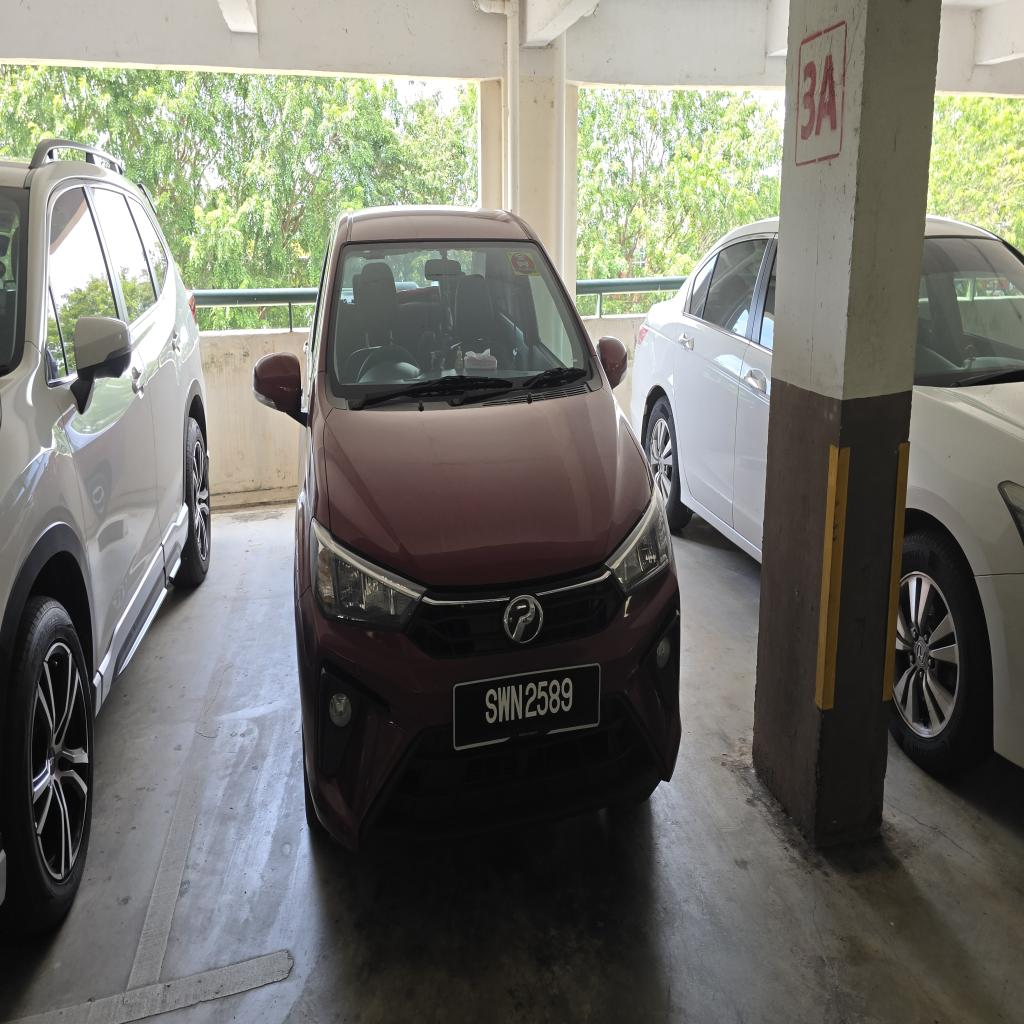car: (254, 208, 680, 848)
car plate: (454, 665, 600, 749)
